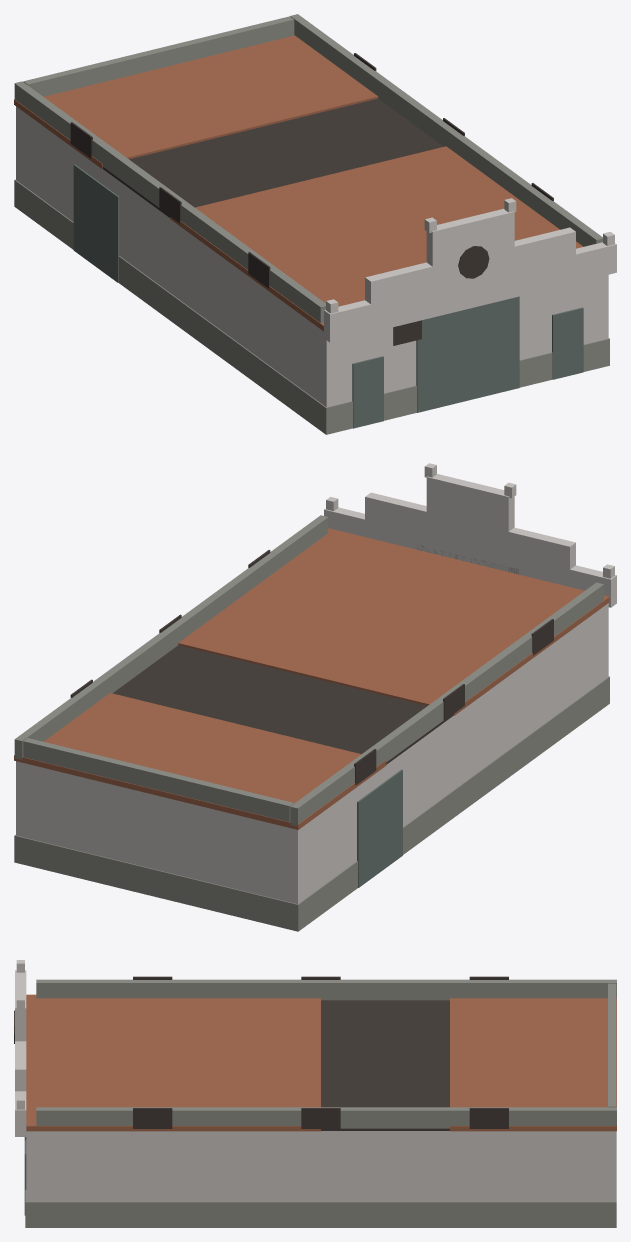
The model's file is SM_Cooperativa_v3_AlmacenHundido_LOD0.fbx.
The picture shows the model from 3 angles, top to bottom: view 1: azimuth 30°, elevation 25°; view 2: azimuth 150°, elevation 25°; view 3: azimuth 270°, elevation 25°; orthographic projection. The views are drawn at different scales.
Visible parts, largest first — view 1: SM_bloques.cooperativa_v3_LOD0; view 2: SM_bloques.cooperativa_v3_LOD0; view 3: SM_bloques.cooperativa_v3_LOD0.
Part boxes in pixels (x1,y1,x2,y2): SM_bloques.cooperativa_v3_LOD0: [14, 14, 616, 434]; SM_bloques.cooperativa_v3_LOD0: [14, 463, 616, 931]; SM_bloques.cooperativa_v3_LOD0: [14, 960, 616, 1227].
Bounding box in the file's own units: 11.2 × 7.15 × 21.49.
